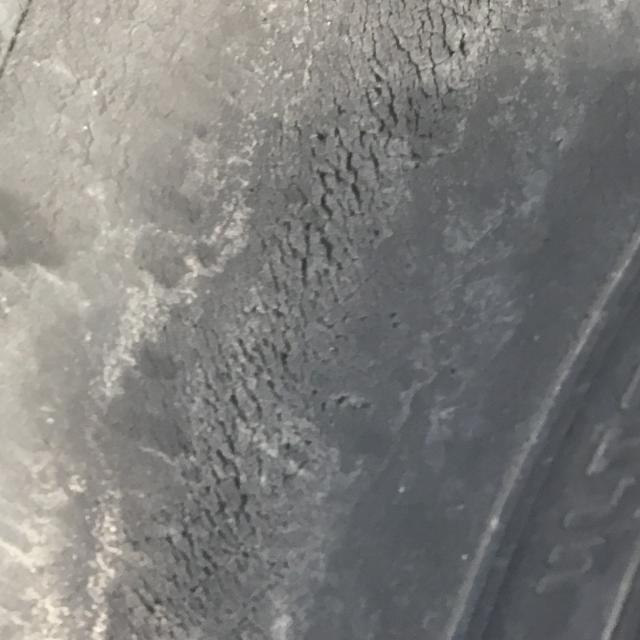Cracks: (0, 0, 613, 639)
